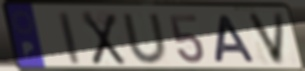5: (166, 13, 206, 65)
A: (213, 14, 258, 64)
I: (56, 10, 83, 66)
U: (120, 12, 171, 66)
V: (244, 11, 287, 67)
X: (79, 10, 128, 67)
